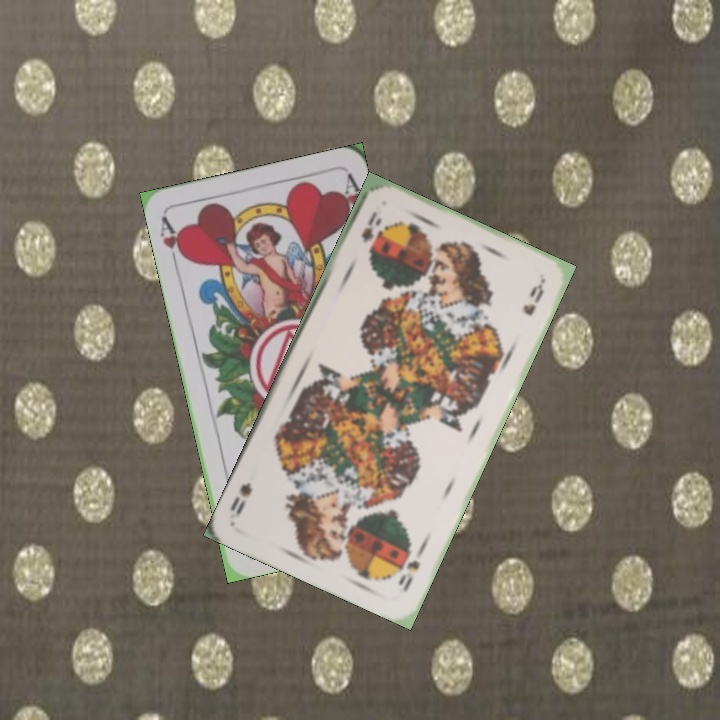HA: (156, 212, 189, 271)
SO: (394, 541, 428, 595), (357, 207, 384, 246)
